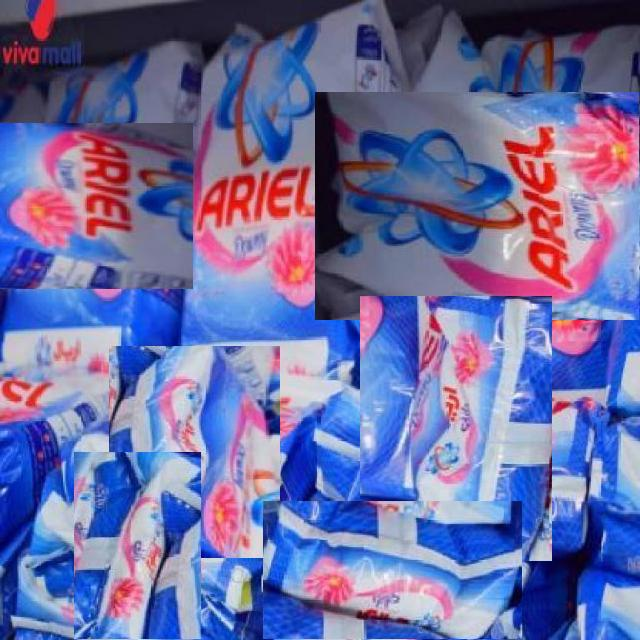Detergent: (316, 92, 640, 320), (193, 25, 394, 383), (360, 295, 552, 561), (0, 123, 273, 289), (108, 346, 280, 558), (262, 501, 522, 639), (74, 452, 201, 640)
